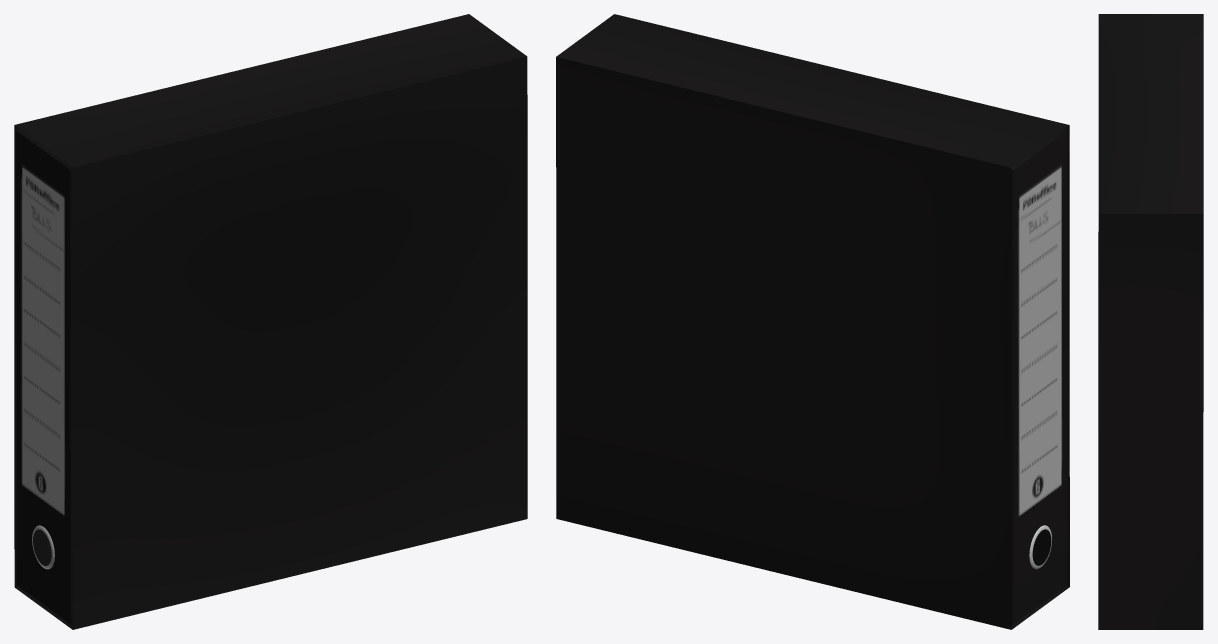
File: SM_BlackFolder.fbx
3 views of the same model, side by side, from view 1: azimuth 30°, elevation 25°; view 2: azimuth 150°, elevation 25°; view 3: azimuth 270°, elevation 25° (orthographic). The views are drawn at different scales.
Visible parts, largest first — view 1: SM_BlackFolder_LOD0; view 2: SM_BlackFolder_LOD0; view 3: SM_BlackFolder_LOD0.
Boxes of the visible parts, bbox=[...] form: SM_BlackFolder_LOD0: bbox=[14, 14, 527, 629]; SM_BlackFolder_LOD0: bbox=[556, 14, 1069, 629]; SM_BlackFolder_LOD0: bbox=[1098, 14, 1203, 629].
Bounding box in the file's own units: 30.88 × 6.88 × 29.9.
Materials: 1 (1 with a texture image).
